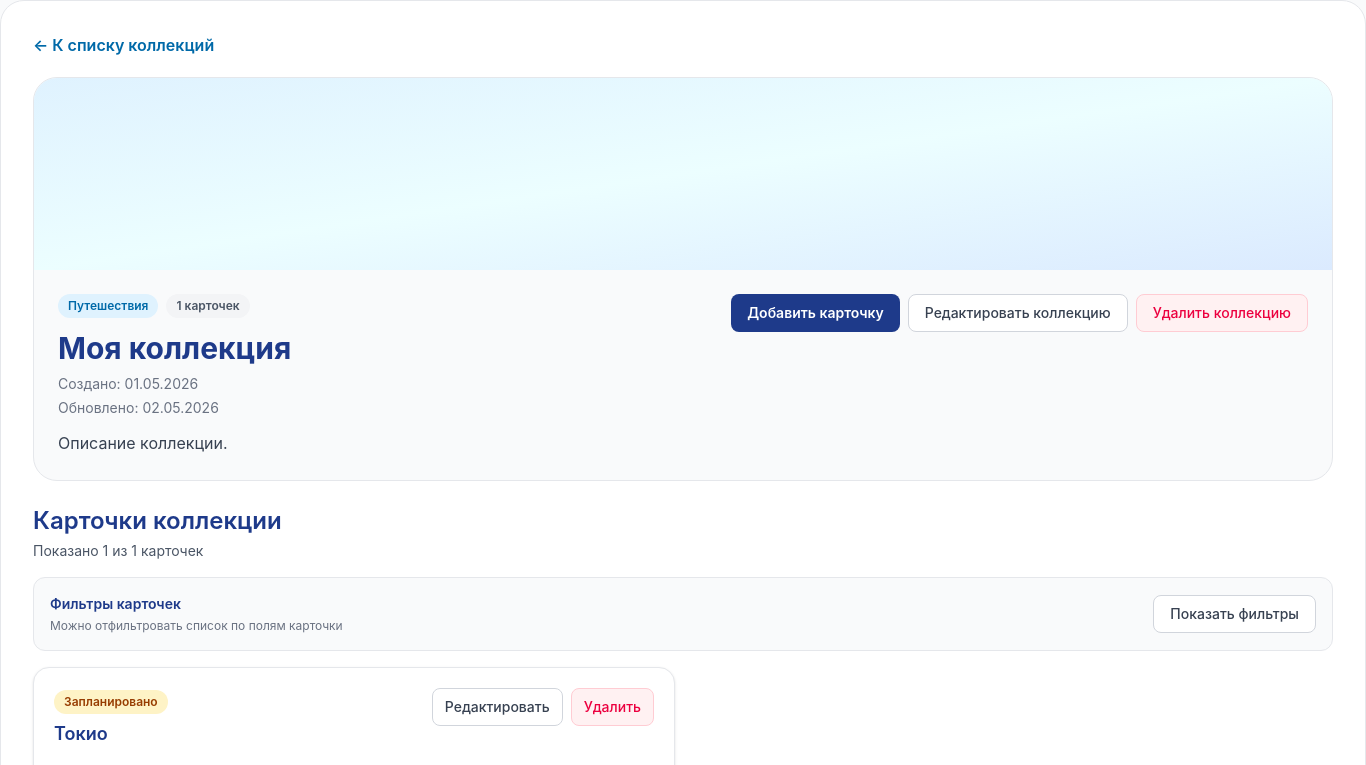
CollectionDetailPage › renders success state with entries
Expected: the heading "Моя коллекция" is shown, [58, 330, 291, 366]
Expected: the heading "Токио" is shown, [54, 723, 108, 744]
Click the button "Показать фильтры" at (1235, 614), box [1153, 595, 1316, 633]
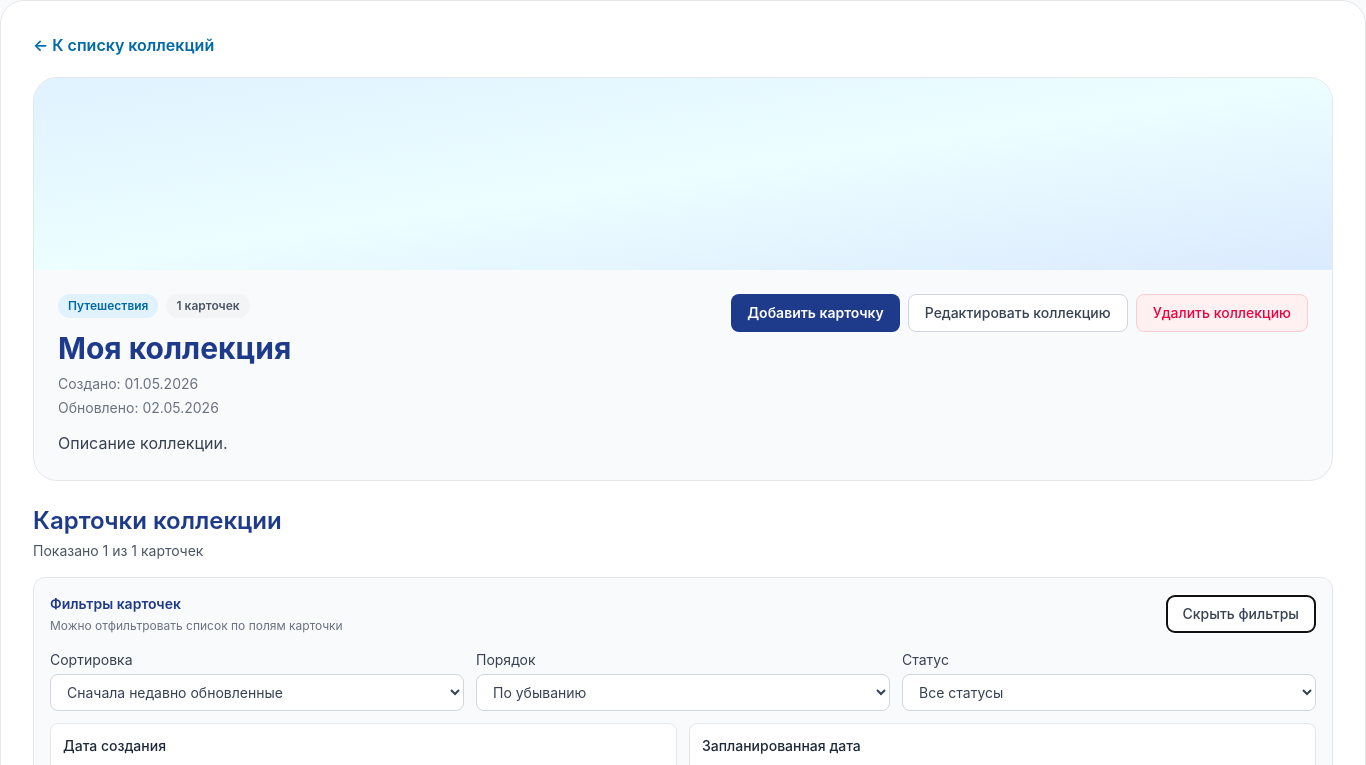
Expected: the dropdown labelled "Сортировка" is shown, [50, 674, 464, 711]
